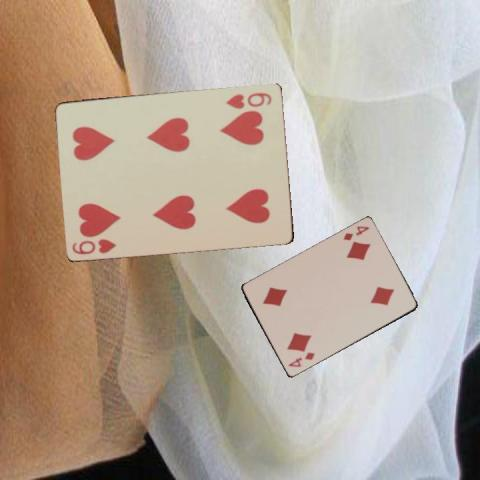4d: (285, 349, 316, 369), (340, 223, 371, 242)
6h: (224, 89, 274, 110), (70, 236, 118, 256)
